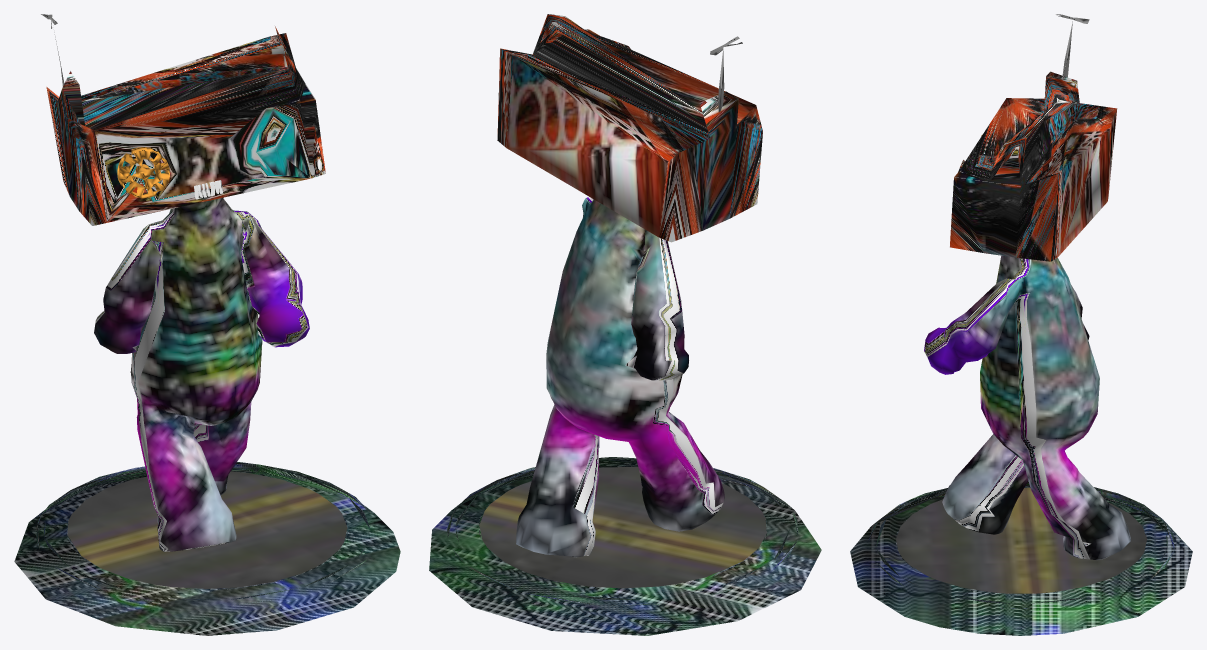
3 views of the same model, side by side, from view 1: azimuth 30°, elevation 25°; view 2: azimuth 150°, elevation 25°; view 3: azimuth 270°, elevation 25° (orthographic). The views are drawn at different scales.
Bounding box in the file's own units: 1.45 × 2.26 × 1.43.
7 materials, 5 textured.
